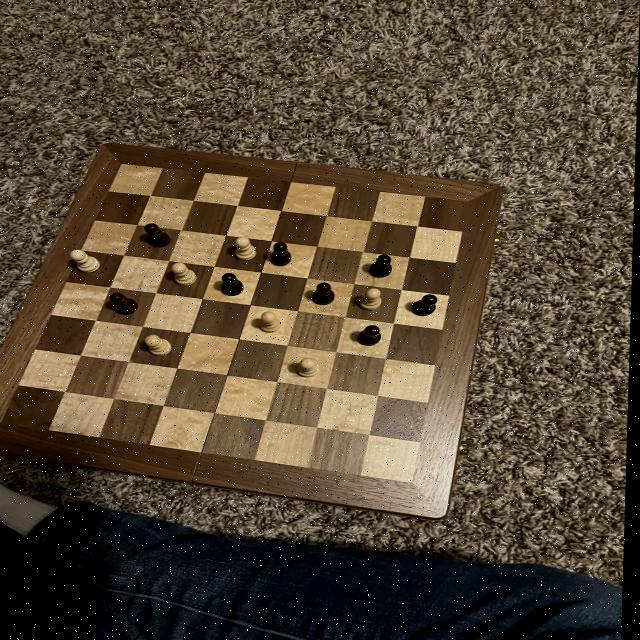black-knight: (411, 292, 444, 317), (108, 291, 141, 316), (367, 253, 397, 280), (144, 222, 174, 249), (355, 323, 387, 347), (312, 281, 339, 307), (271, 240, 295, 267), (221, 272, 247, 296)
white-knight: (68, 249, 105, 274), (169, 260, 201, 286), (143, 332, 176, 357), (356, 288, 386, 312), (231, 236, 259, 261), (258, 310, 284, 336), (296, 356, 324, 380)
